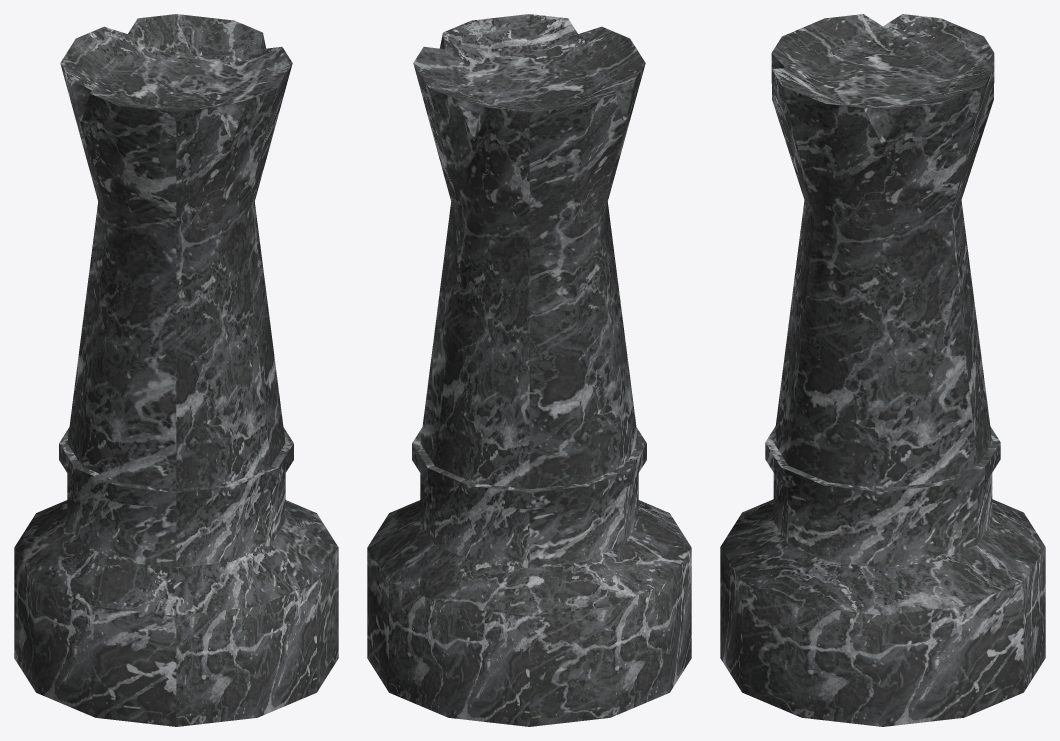
File: b_rook.glb
3 views of the same model, side by side, from view 1: azimuth 30°, elevation 25°; view 2: azimuth 150°, elevation 25°; view 3: azimuth 270°, elevation 25° (orthographic).
Parts seen in each view (by area): view 1: Rook; view 2: Rook; view 3: Rook.
Part boxes in pixels (left/top/right/bottom): Rook: left=14, top=14, right=338, bottom=726; Rook: left=367, top=14, right=691, bottom=726; Rook: left=720, top=14, right=1045, bottom=726.
Bounding box in the file's own units: 1.1 × 2.23 × 1.1.
Materials: 1 (1 with a texture image).
